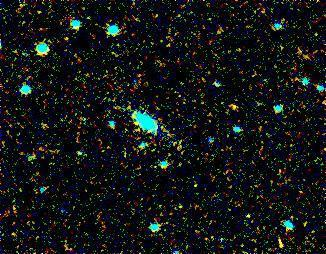star: (219, 94, 249, 124)
